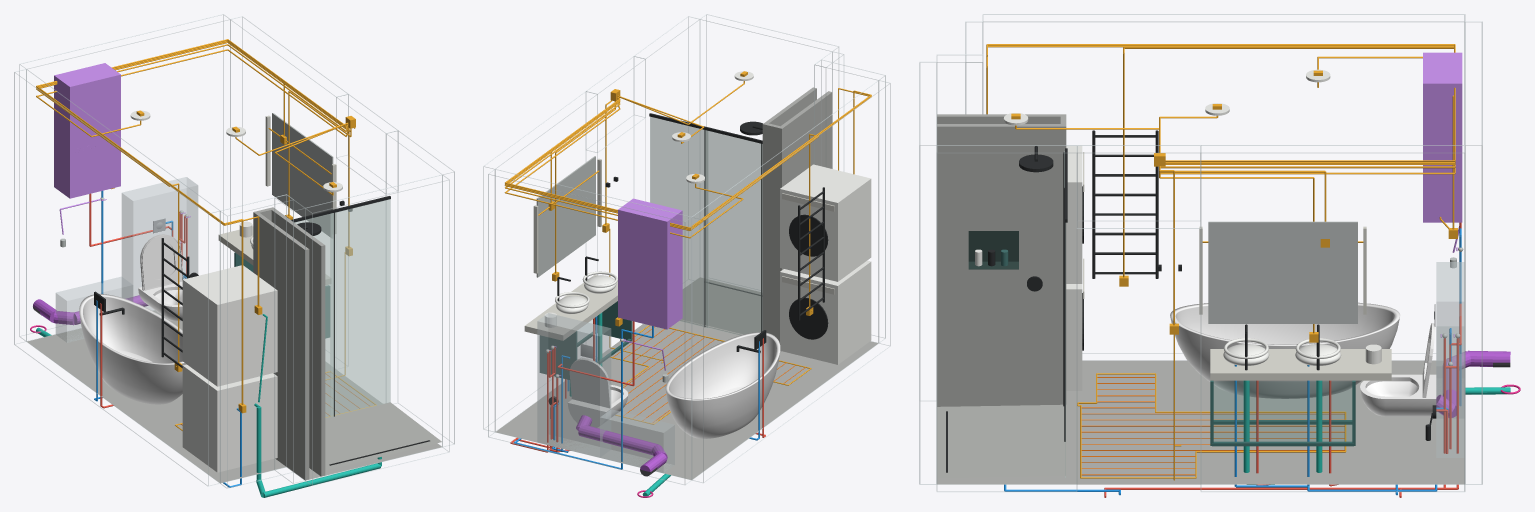
Rendered from option_10_default_layers.glb.
The picture shows the model from 3 angles, left to right: view 1: azimuth 30°, elevation 25°; view 2: azimuth 150°, elevation 25°; view 3: azimuth 270°, elevation 25°; orthographic projection. The views are drawn at different scales.
Parts seen in each view (by area): view 1: Sliding glass leaf 2, shown open, Dryer above washer, Box west tiled skin toward laundry, Island Bath study — bath_Circle (Scopia CC BY 3.0), Legacy 80-class SPACE ONLY — insufficient full-bath capacity, Washer 60 × 60 — north-facing, Finished screed surface — depth unverified, no structural sl, WC frame and cistern — north wall, Shower floor — 2% to south linear channel, Full-width mirror above double vanity, Box east skin south of niche, Hanged toilet — Ola-Kristian Hoff visual reference (+12 smaller); view 2: Finished screed surface — depth unverified, no structural sl, Shower moving glass — play frames 1–48, WC frame and cistern — north wall, Island Bath study — bath_Circle (Scopia CC BY 3.0), Legacy 80-class SPACE ONLY — insufficient full-bath capacity, Sliding glass leaf 2, shown open, Dryer above washer, Washer 60 × 60 — north-facing, Full-width mirror above double vanity, Box north tiled cap, Low north Ø110 enclosure — 40 cm high, Shower floor — 2% to south linear channel (+17 smaller); view 3: Finished screed surface — depth unverified, no structural sl, Full-width mirror above double vanity, Box east skin north of niche, Shower floor — 2% to south linear channel, Box east skin south of niche, Island Bath study — bath_Circle (Scopia CC BY 3.0), Vanity transparent rear panel against east wall, Box east skin below niche, Legacy 80-class SPACE ONLY — insufficient full-bath capacity, WC frame and cistern — north wall, Box east skin above niche, Compact double vanity counter (+23 smaller).
Part boxes in pixels (bbox=[...]): Sliding glass leaf 2, shown open: bbox=[330, 199, 390, 416]; Dryer above washer: bbox=[182, 265, 277, 386]; Box west tiled skin toward laundry: bbox=[255, 213, 309, 480]; Island Bath study — bath_Circle (Scopia CC BY 3.0): bbox=[79, 294, 186, 404]; Legacy 80-class SPACE ONLY — insufficient full-bath capacity: bbox=[54, 63, 120, 198]; Washer 60 × 60 — north-facing: bbox=[182, 364, 277, 472]; Finished screed surface — depth unverified, no structural sl: bbox=[27, 310, 441, 482]; WC frame and cistern — north wall: bbox=[121, 177, 198, 317]; Shower floor — 2% to south linear channel: bbox=[325, 402, 441, 470]; Full-width mirror above double vanity: bbox=[272, 113, 333, 237]; Box east skin south of niche: bbox=[308, 236, 325, 476]; Hanged toilet — Ola-Kristian Hoff visual reference: bbox=[138, 218, 183, 321]; Finished screed surface — depth unverified, no structural sl: bbox=[496, 320, 878, 479]; Shower moving glass — play frames 1–48: bbox=[705, 130, 762, 335]; WC frame and cistern — north wall: bbox=[537, 313, 611, 457]; Island Bath study — bath_Circle (Scopia CC BY 3.0): bbox=[665, 332, 780, 438]; Legacy 80-class SPACE ONLY — insufficient full-bath capacity: bbox=[618, 198, 682, 329]; Sliding glass leaf 2, shown open: bbox=[650, 116, 708, 327]; Dryer above washer: bbox=[780, 164, 871, 281]; Washer 60 × 60 — north-facing: bbox=[780, 260, 871, 364]; Full-width mirror above double vanity: bbox=[536, 156, 595, 277]; Box north tiled cap: bbox=[762, 122, 784, 343]; Low north Ø110 enclosure — 40 cm high: bbox=[600, 409, 674, 472]; Shower floor — 2% to south linear channel: bbox=[681, 277, 760, 334]; Finished screed surface — depth unverified, no structural sl: bbox=[937, 360, 1464, 484]; Full-width mirror above double vanity: bbox=[1208, 221, 1357, 323]; Box east skin north of niche: bbox=[1019, 124, 1060, 405]; Shower floor — 2% to south linear channel: bbox=[937, 404, 1066, 477]; Box east skin south of niche: bbox=[937, 124, 968, 406]; Island Bath study — bath_Circle (Scopia CC BY 3.0): bbox=[1170, 302, 1400, 398]; Vanity transparent rear panel against east wall: bbox=[1213, 381, 1352, 442]; Box east skin below niche: bbox=[968, 269, 1018, 406]; Legacy 80-class SPACE ONLY — insufficient full-bath capacity: bbox=[1423, 52, 1462, 222]; WC frame and cistern — north wall: bbox=[1436, 262, 1464, 457]; Box east skin above niche: bbox=[968, 124, 1018, 230]; Compact double vanity counter: bbox=[1210, 349, 1355, 380].
Bounding box in the file's own units: 2.28 × 2.72 × 4.18.
